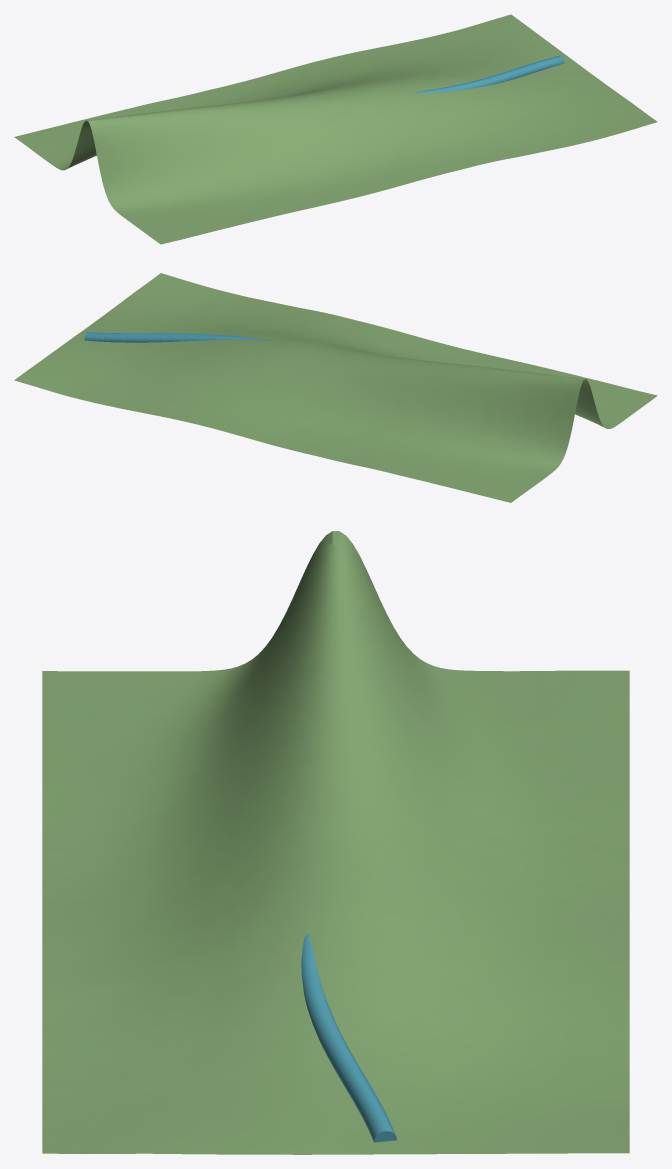
File: rivers.glb
3 views of the same model, one above another, from view 1: azimuth 30°, elevation 25°; view 2: azimuth 150°, elevation 25°; view 3: azimuth 270°, elevation 25° (orthographic). The views are drawn at different scales.
Visible parts, largest first — view 1: River_Valley, River_Water; view 2: River_Valley, River_Water; view 3: River_Valley, River_Water.
Part boxes in pixels (x1,y1,x2,y2): River_Valley: [14, 14, 657, 244]; River_Water: [414, 55, 564, 93]; River_Valley: [14, 273, 657, 502]; River_Water: [84, 332, 271, 342]; River_Valley: [42, 531, 629, 1154]; River_Water: [301, 932, 396, 1142].
Size of the model in its own units: 8.6 by 1.26 by 4.4.
